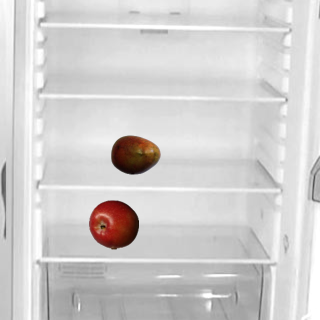Apple Braeburn: (88, 199, 138, 249)
Mango Red: (110, 129, 160, 179)
